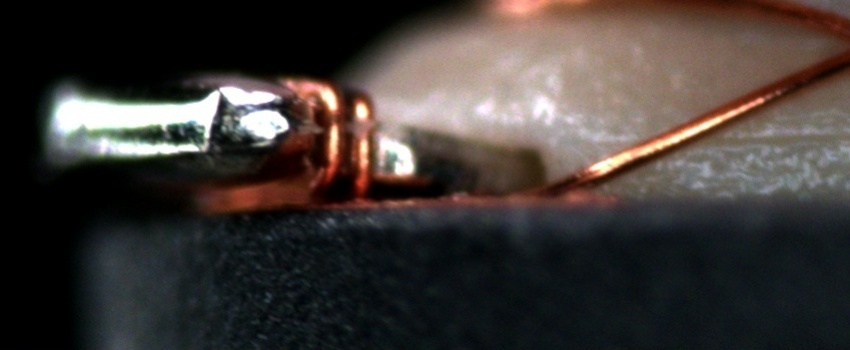DL: (589, 106, 849, 162)
TE: (272, 77, 378, 198)
